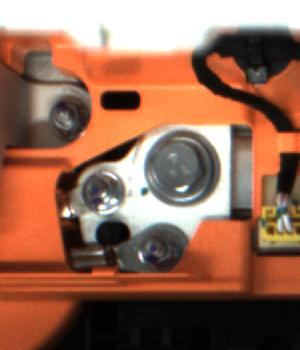nut_b: (145, 126, 225, 208)
screw_s: (130, 226, 185, 272), (42, 98, 85, 137), (81, 172, 123, 210)
